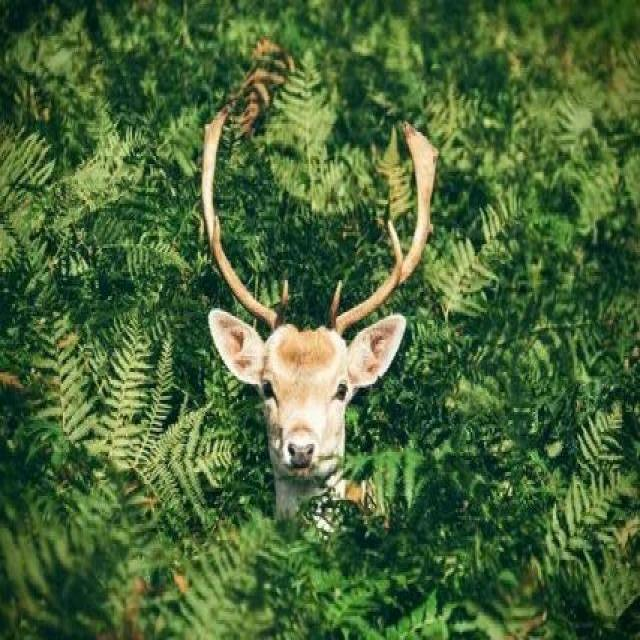deer: (140, 132, 463, 625)
